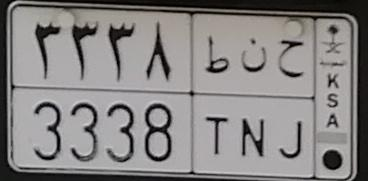3: (104, 22, 138, 163), (33, 20, 65, 162), (69, 20, 101, 162)
8: (142, 21, 175, 163)
J: (277, 39, 305, 159)
N: (240, 37, 270, 158)
T: (203, 34, 232, 155)
